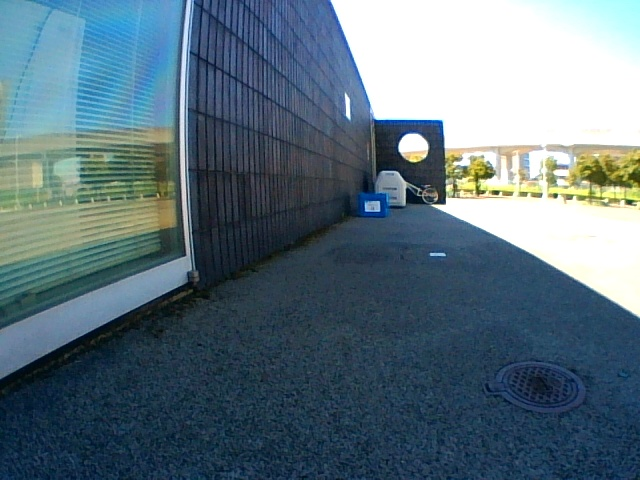blue_box: (360, 194, 388, 217)
tag: (365, 200, 379, 212)
